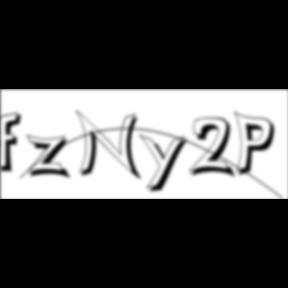2: (190, 117, 240, 181)
N: (76, 109, 146, 183)
P: (234, 110, 282, 180)
f: (1, 111, 28, 175)
y: (139, 132, 193, 196)
z: (25, 134, 74, 182)
